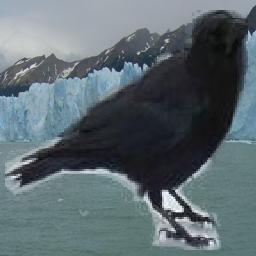Crow: (6, 10, 249, 250)
